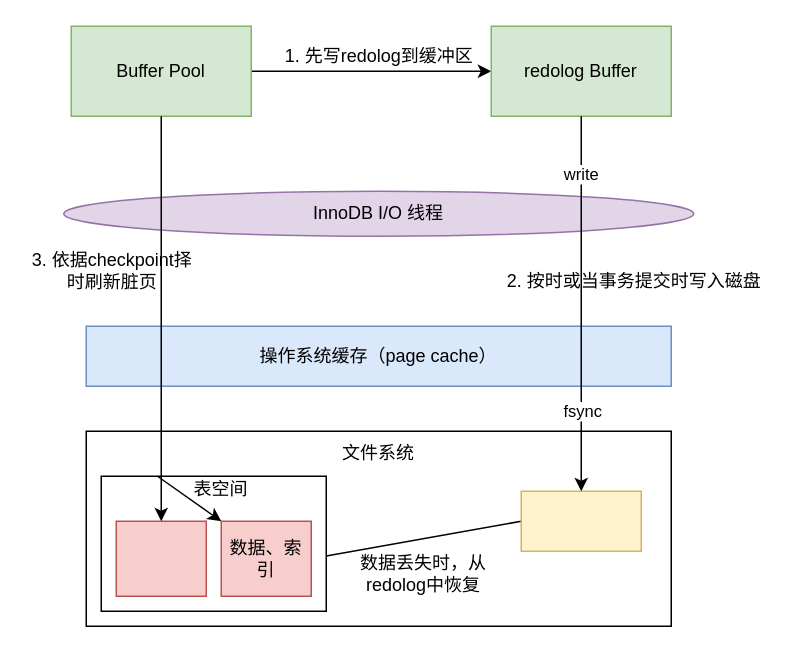
The diagram is 794 pixels wide and 653 high, and some of its shapes have lost their labels. The shapes that lost their labels are listed below. From the top down, each one's centre as x and y in pixels, then its label:
point 580,520: redolog file
point 160,558: double write
